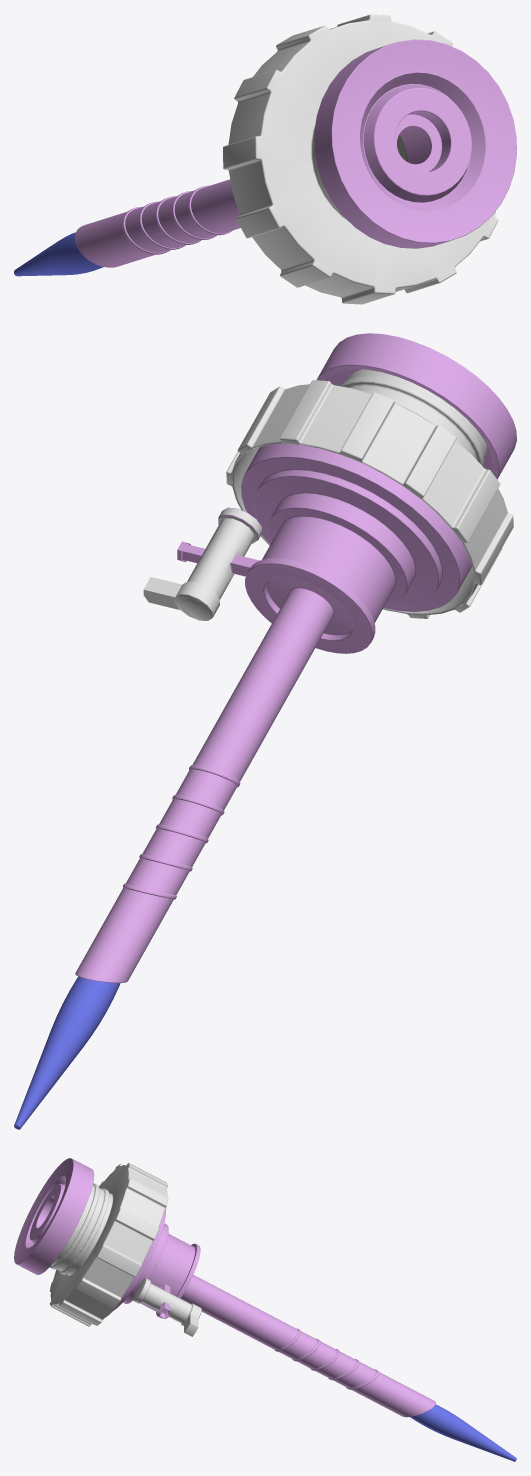
Rendered from trocar.fbx.
3 views of the same model, one above another, from view 1: azimuth 30°, elevation 25°; view 2: azimuth 150°, elevation 25°; view 3: azimuth 270°, elevation 25° (orthographic). The views are drawn at different scales.
Visible parts, largest first — view 1: Back_2; view 2: Back_2; view 3: Back_2.
Boxes of the visible parts, x1,y1,x2,y2 form: Back_2: (14,14,516,304); Back_2: (14,333,516,1129); Back_2: (14,1158,516,1461).
Bounding box in the file's own units: 3.7 × 10.23 × 6.68.
